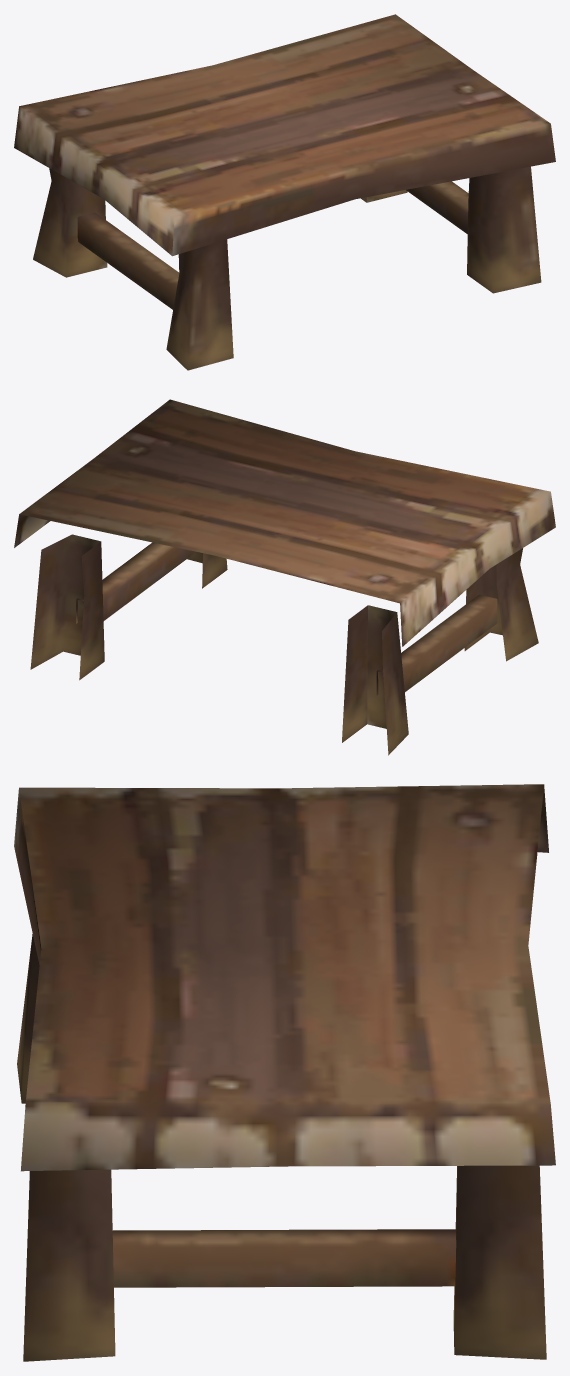
File: Map_11_wood01.FBX
The picture shows the model from 3 angles, top to bottom: view 1: azimuth 30°, elevation 25°; view 2: azimuth 150°, elevation 25°; view 3: azimuth 270°, elevation 25°; orthographic projection. The views are drawn at different scales.
Visible parts, largest first — view 1: Map_11_wood01; view 2: Map_11_wood01; view 3: Map_11_wood01.
Boxes of the visible parts, x1,y1,x2,y2 form: Map_11_wood01: [14, 14, 555, 370]; Map_11_wood01: [14, 399, 555, 755]; Map_11_wood01: [14, 784, 555, 1361].
Bounding box in the file's own units: 283 × 199 × 109.
